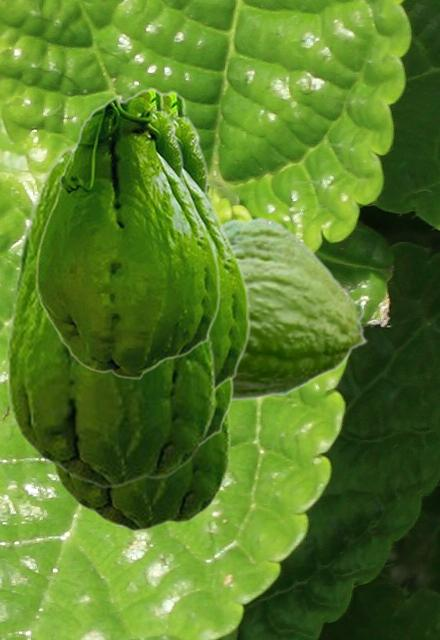sayote: (6, 140, 215, 488), (35, 87, 220, 379), (223, 216, 368, 401), (161, 90, 250, 390), (48, 412, 230, 531), (202, 380, 233, 444)
